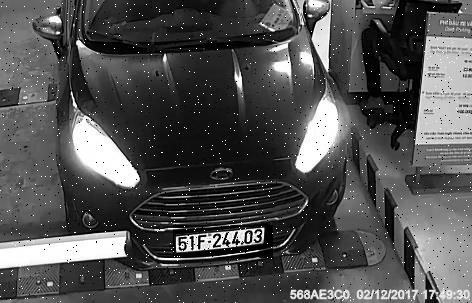License-plate: (175, 226, 276, 259)
